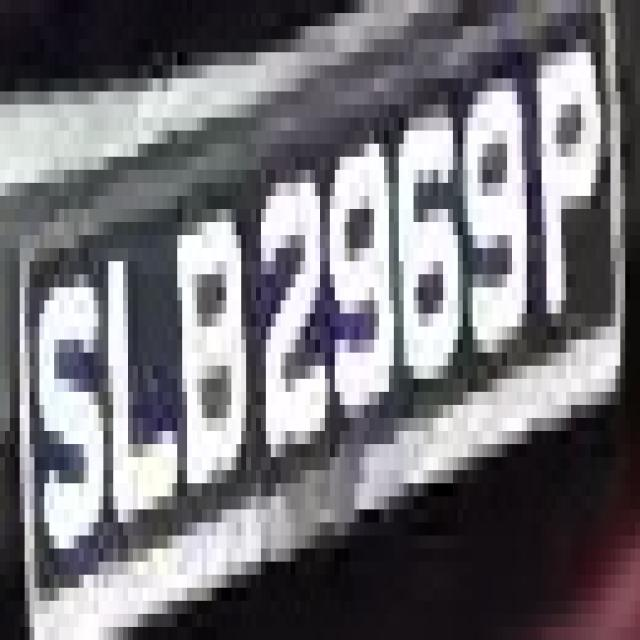2: (251, 144, 340, 483)
6: (374, 65, 468, 392)
9: (448, 52, 527, 431), (320, 105, 394, 444)
B: (152, 183, 266, 535)
L: (94, 209, 187, 549)
P: (526, 13, 600, 353)
S: (25, 235, 113, 575)
